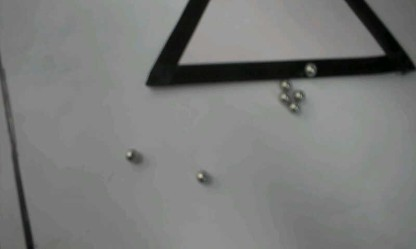ironball: (124, 148, 142, 164), (195, 169, 210, 184), (303, 61, 317, 77), (279, 79, 291, 92), (292, 89, 304, 101), (278, 92, 290, 104), (288, 102, 299, 113)
